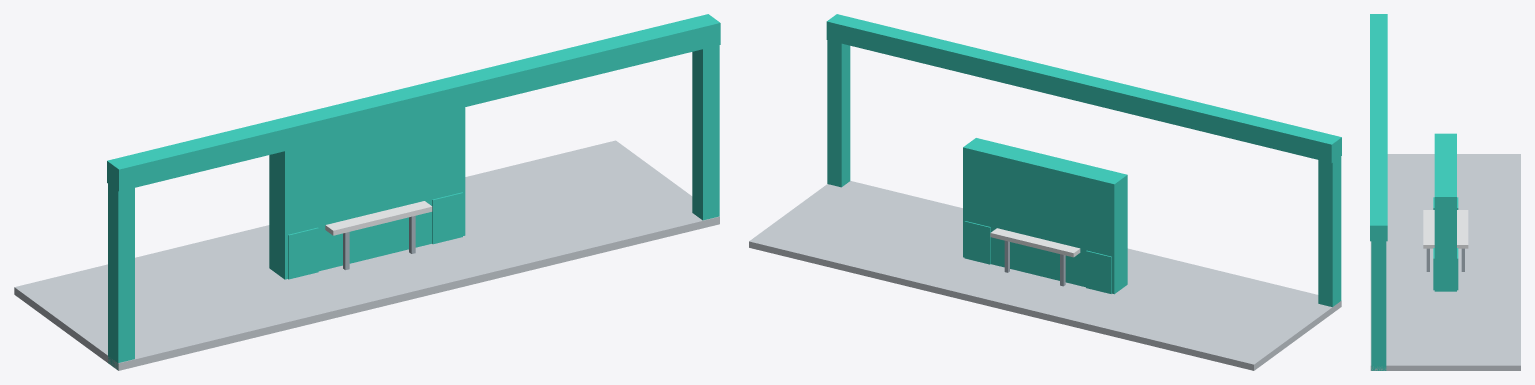
3 views of the same model, side by side, from view 1: azimuth 30°, elevation 25°; view 2: azimuth 150°, elevation 25°; view 3: azimuth 270°, elevation 25° (orthographic). The views are drawn at different scales.
Visible parts, largest first — view 1: Exhibition Booth Concept; view 2: Exhibition Booth Concept; view 3: Exhibition Booth Concept.
Part boxes in pixels (x1,y1,x2,y2): Exhibition Booth Concept: (14, 14, 720, 370); Exhibition Booth Concept: (749, 14, 1341, 370); Exhibition Booth Concept: (1370, 14, 1520, 370).
Size of the model in its own units: 10 by 3.2 by 3.01.
